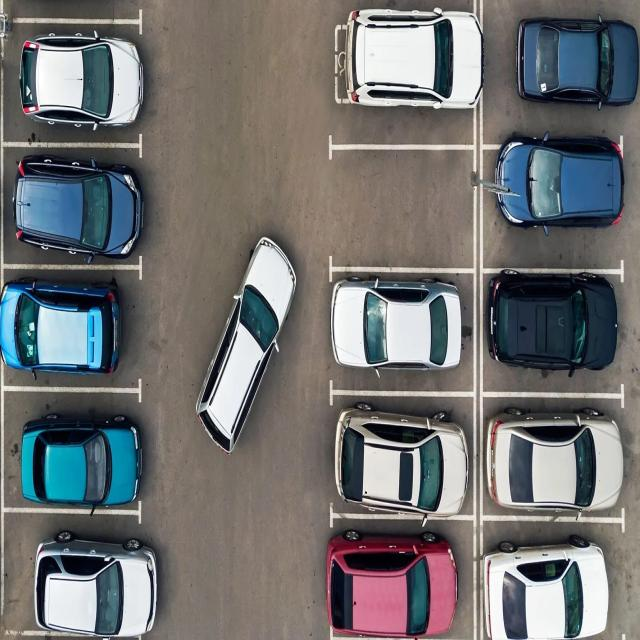space-empty: (327, 148, 477, 268)
space-occupied: (480, 0, 631, 140), (2, 516, 161, 640), (481, 134, 628, 268), (333, 2, 481, 129), (478, 398, 632, 519), (326, 269, 476, 390), (476, 520, 627, 640), (329, 395, 475, 518), (481, 270, 622, 394), (328, 522, 477, 639), (3, 392, 144, 512), (2, 146, 144, 265), (5, 21, 145, 140), (2, 268, 134, 385)
